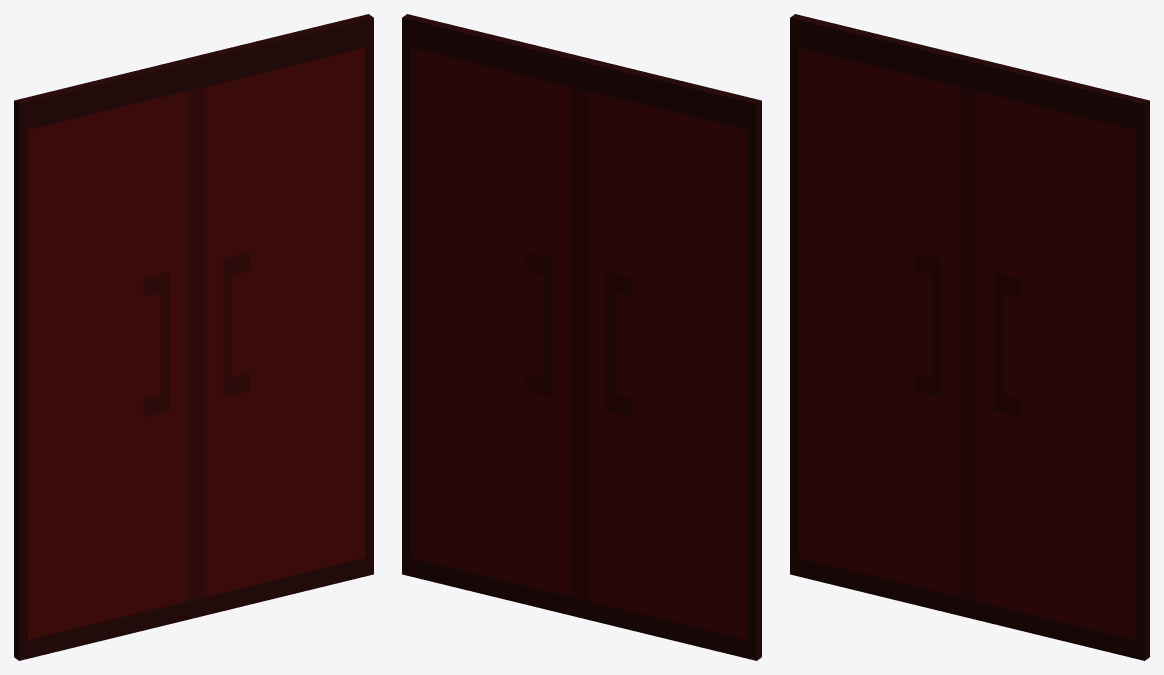
Rendered from door1.obj.
3 renders of one model, left to right at view 1: azimuth 30°, elevation 25°; view 2: azimuth 150°, elevation 25°; view 3: azimuth 330°, elevation 25°, orthographic.
Bounding box in the file's own units: 4 × 6 × 0.1.
1 material, 1 textured.
